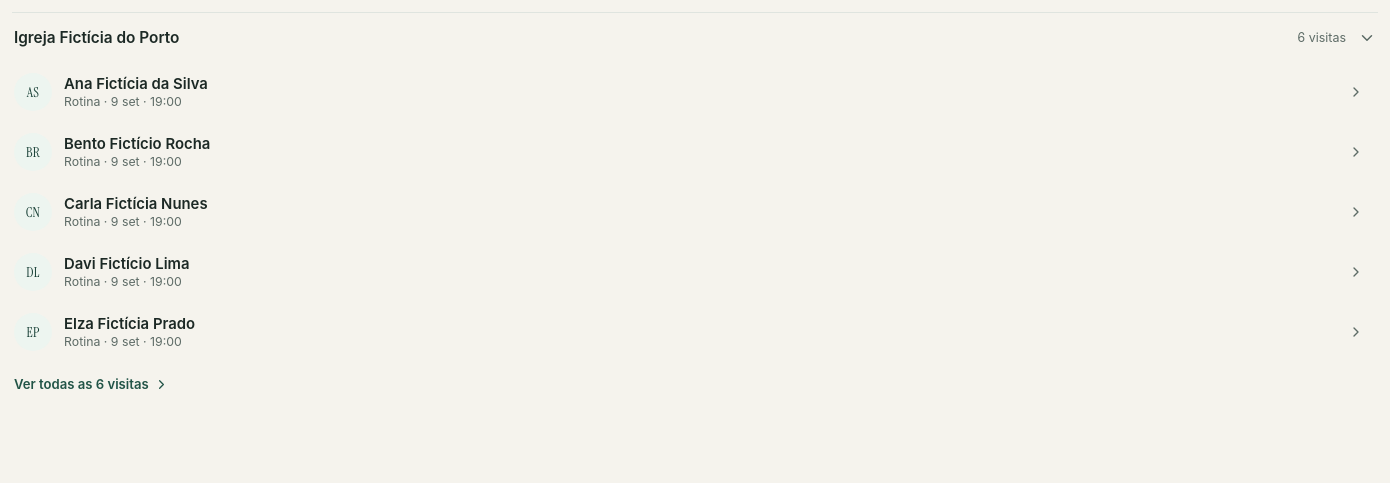
Test: visitas por igreja › mostra cinco linhas por igreja e guarda o resto atrás de um toque
Expected: the number of links is 5, x1=12 y1=62 x2=1378 y2=122; x1=12 y1=122 x2=1378 y2=182; x1=12 y1=182 x2=1378 y2=242; x1=12 y1=242 x2=1378 y2=302; x1=12 y1=302 x2=1378 y2=362
Click the button "Ver todas as 6 visitas" at x=55, y=384, box x1=12 y1=362 x2=1378 y2=406
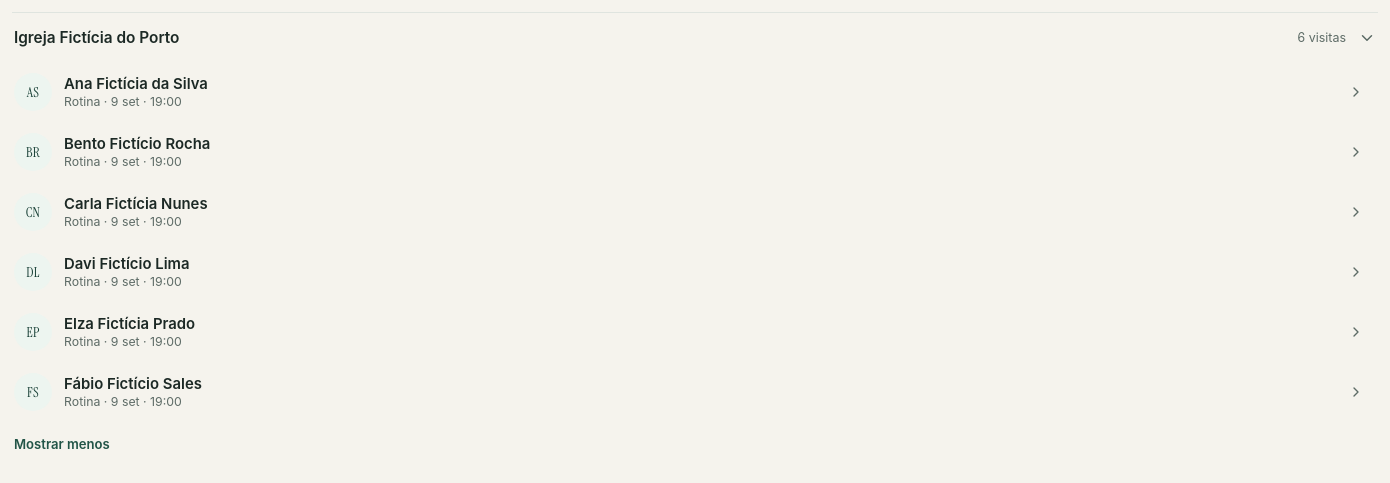
Expected: the number of links is 6, x1=12 y1=62 x2=1378 y2=122; x1=12 y1=122 x2=1378 y2=182; x1=12 y1=182 x2=1378 y2=242; x1=12 y1=242 x2=1378 y2=302; x1=12 y1=302 x2=1378 y2=362; x1=12 y1=362 x2=1378 y2=422
Click the button "Mostrar menos" at x=62, y=444, box x1=12 y1=422 x2=1378 y2=466
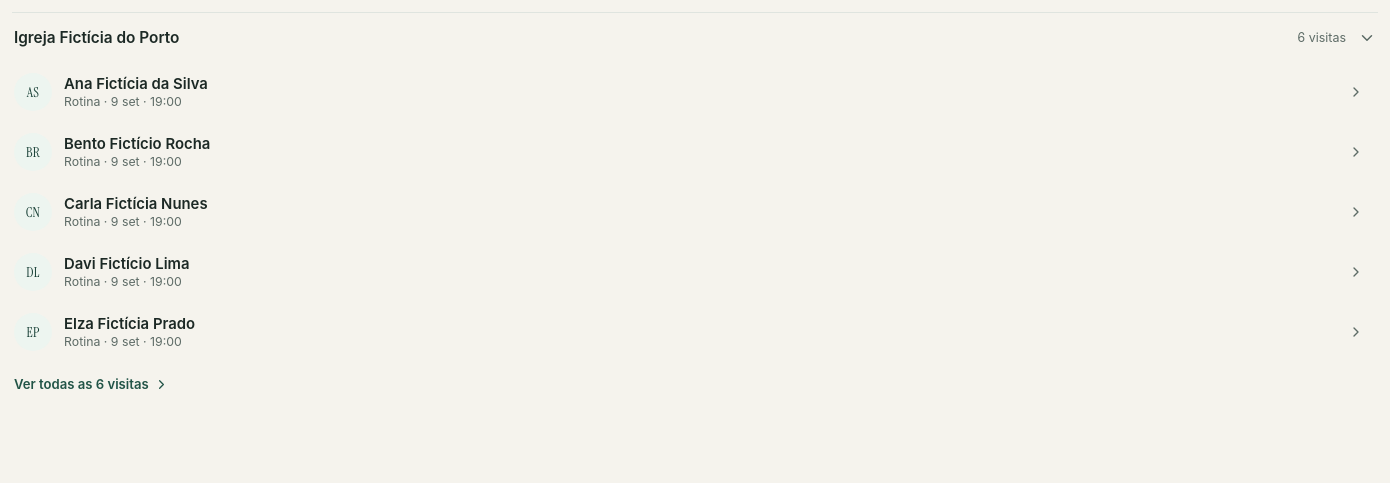
Expected: the number of links is 5, x1=12 y1=62 x2=1378 y2=122; x1=12 y1=122 x2=1378 y2=182; x1=12 y1=182 x2=1378 y2=242; x1=12 y1=242 x2=1378 y2=302; x1=12 y1=302 x2=1378 y2=362
